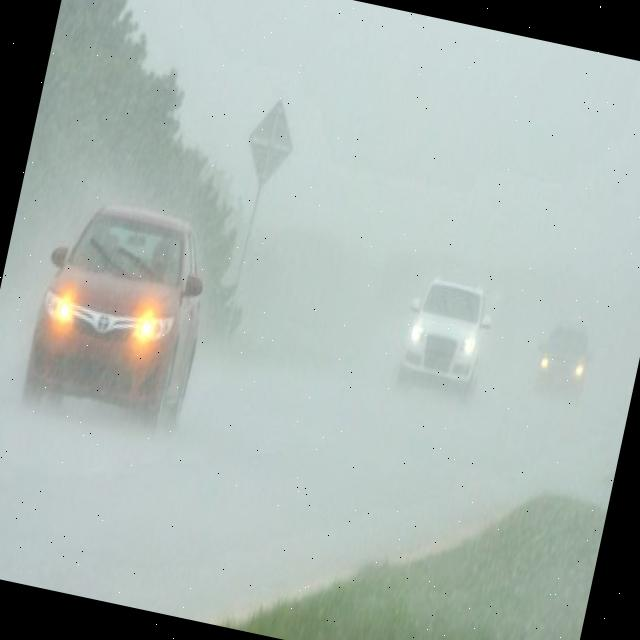car: (22, 194, 224, 418), (396, 274, 495, 389), (528, 316, 594, 402)
